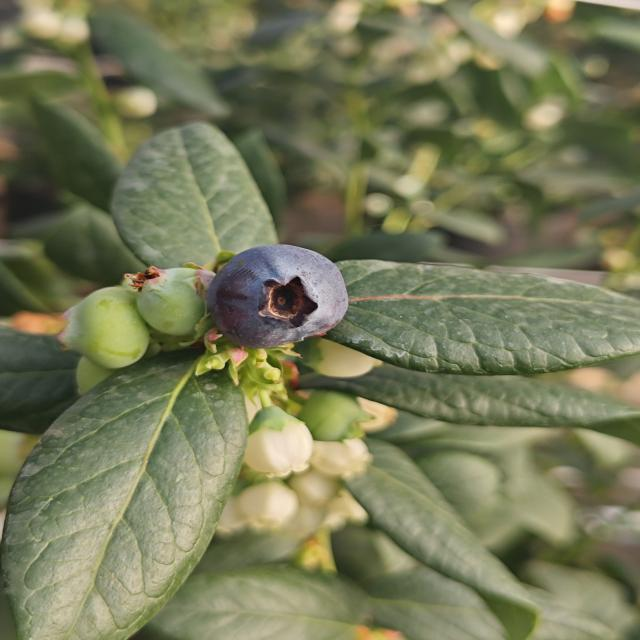ripe: (201, 238, 352, 350)
